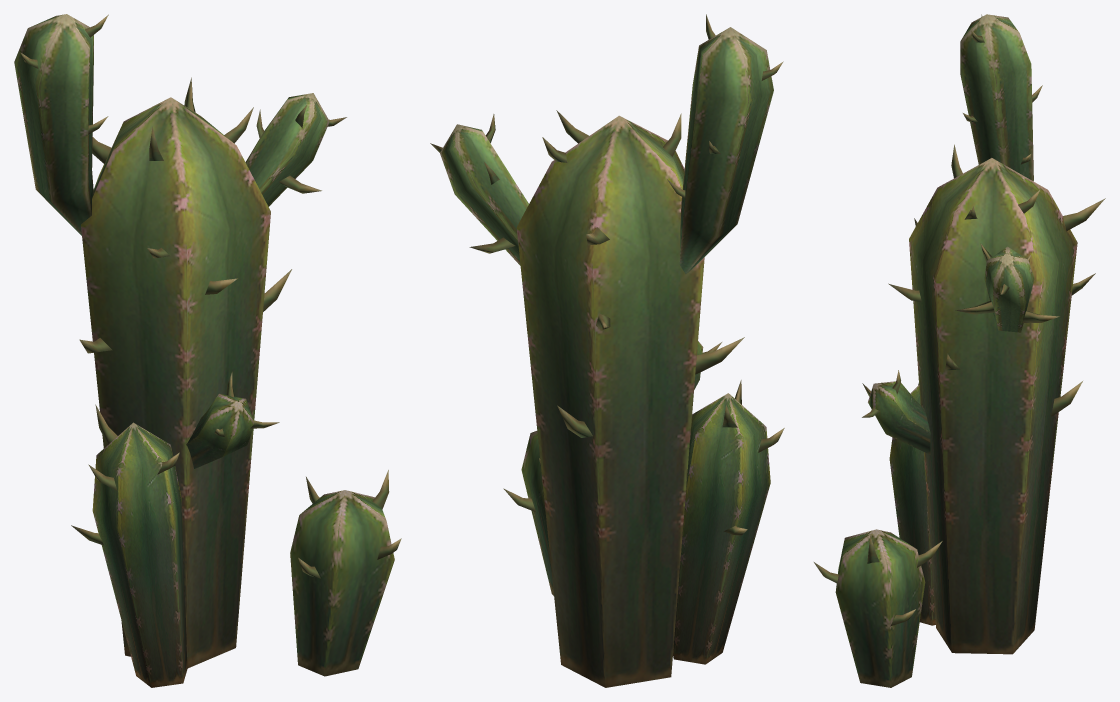
File: plant_yewai_shamoxianrenzhang02.FBX
The picture shows the model from 3 angles, left to right: view 1: azimuth 30°, elevation 25°; view 2: azimuth 150°, elevation 25°; view 3: azimuth 270°, elevation 25°; orthographic projection. The views are drawn at different scales.
Visible parts, largest first — view 1: plant_yewai_shamoxianrenzhang02; view 2: plant_yewai_shamoxianrenzhang02; view 3: plant_yewai_shamoxianrenzhang02.
Boxes of the visible parts, bbox=[...] form: plant_yewai_shamoxianrenzhang02: bbox=[14, 14, 401, 687]; plant_yewai_shamoxianrenzhang02: bbox=[430, 14, 784, 687]; plant_yewai_shamoxianrenzhang02: bbox=[814, 14, 1105, 687].
Size of the model in its own units: 2.62 by 2.24 by 4.87.
